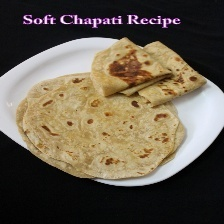roti: (14, 31, 212, 186)
